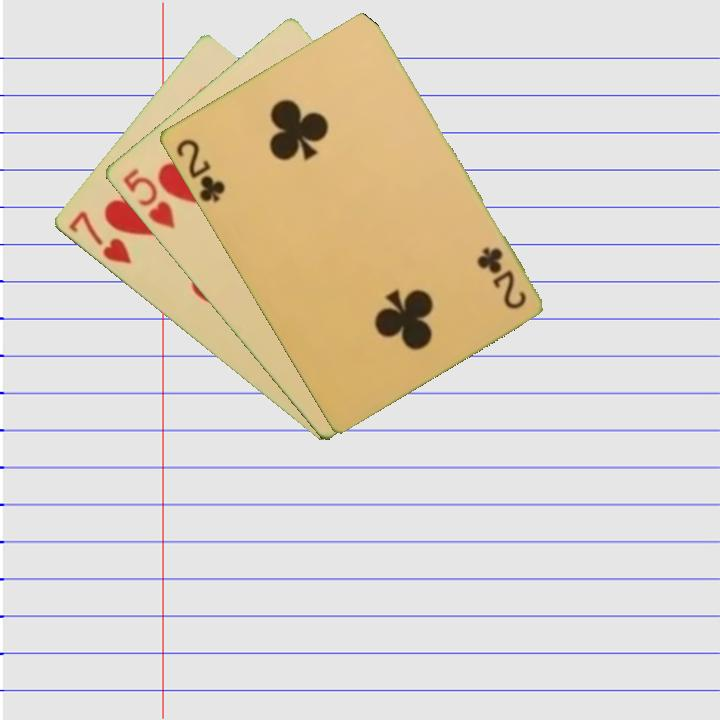2c: (172, 135, 228, 205), (473, 243, 529, 312)
5h: (118, 164, 177, 233)
7h: (64, 207, 134, 267)
